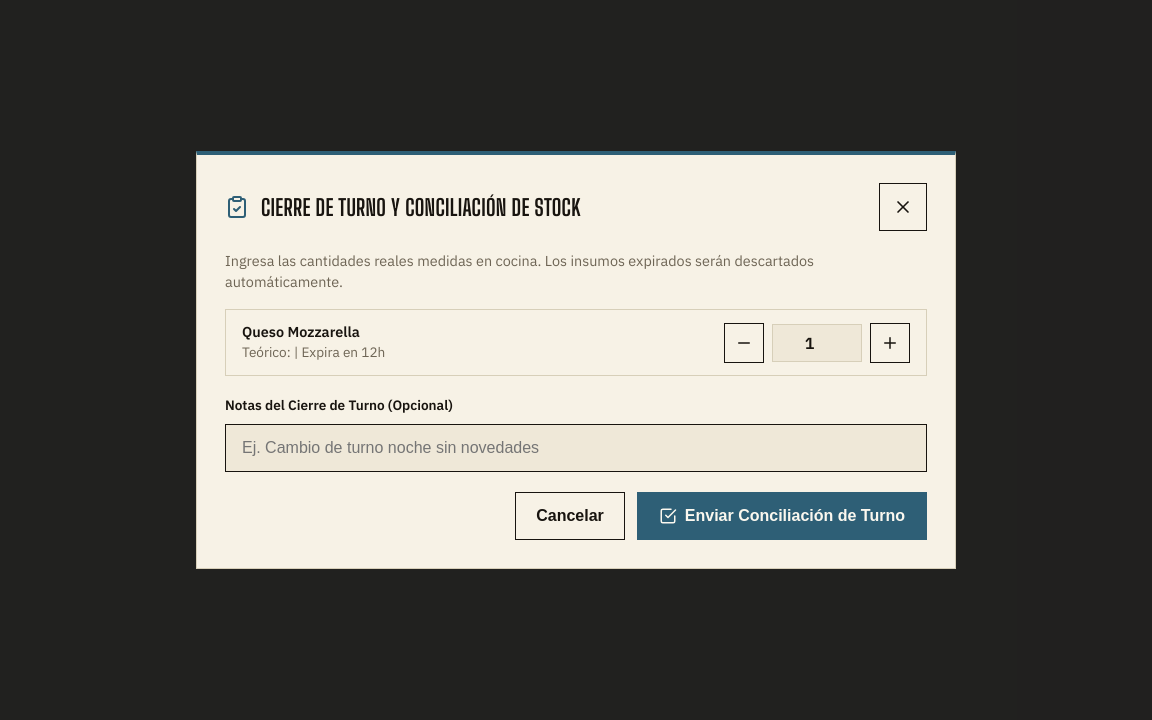
Test: TK-007-D: ShiftReconciliationWizard Component Suite › debe bloquear el envio y mostrar alerta si la varianza supera el 50% hasta marcar el checkbox de autorizacion Y elegir motivo (ADR-004)
Replace the text in the number field showing "1" with "0.3" at x=817, y=342, box x1=772 y1=324 x2=862 y2=362
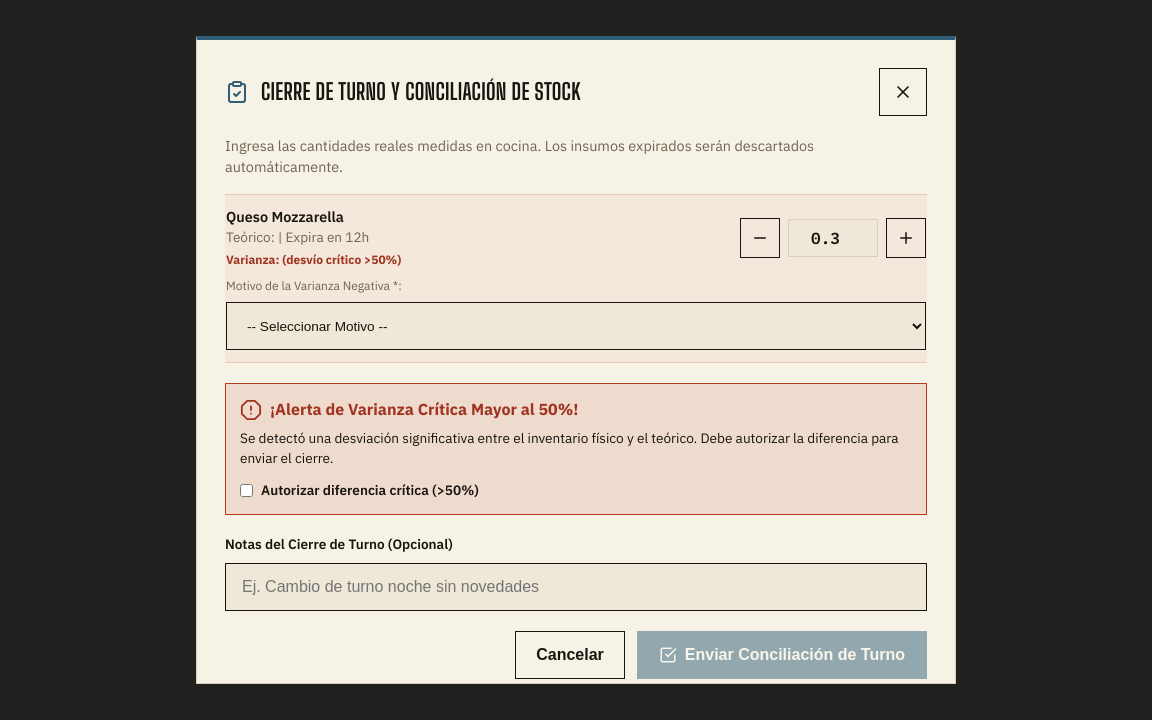
Result: the text "¡Alerta de Varianza Crítica Mayor al 50%!" is shown at x1=240 y1=399 x2=578 y2=421
Result: the button "Enviar Conciliación de Turno" is disabled at x1=637 y1=631 x2=927 y2=679
Click the checkbox labelled "Autorizar diferencia crítica (>50%)".
click(246, 490)  # box x1=240 y1=484 x2=253 y2=497
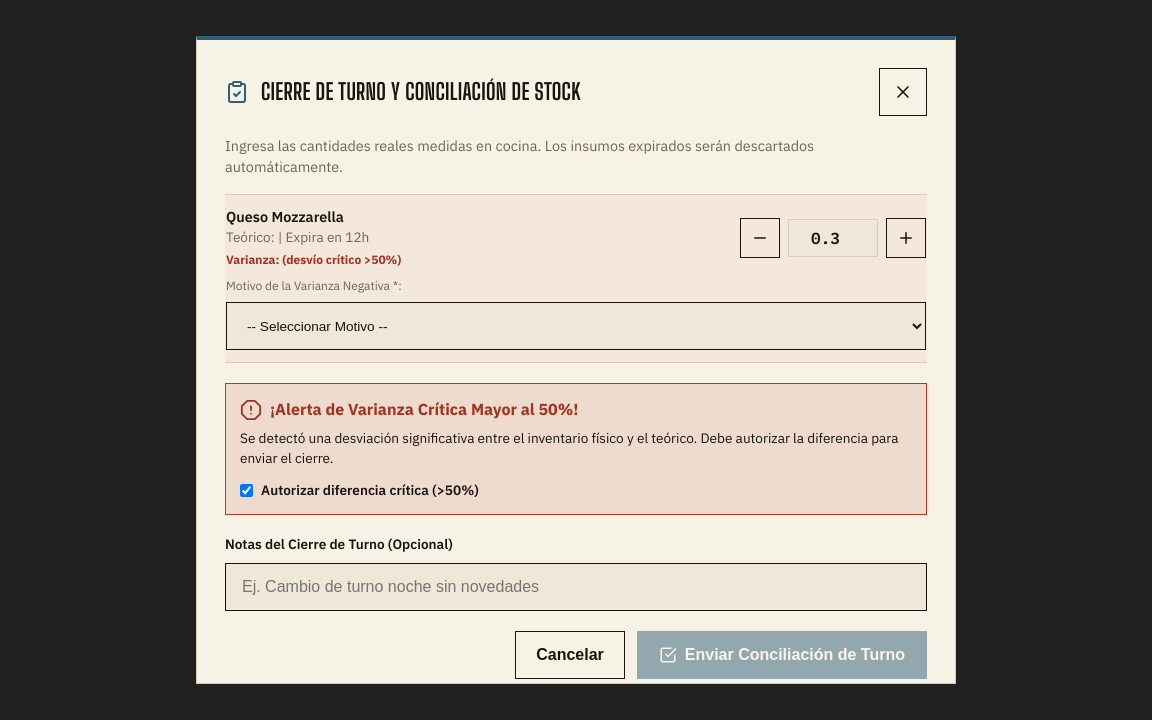
Result: the button "Enviar Conciliación de Turno" is disabled at x1=637 y1=631 x2=927 y2=679
Select "Error de manipulación" in the dropdown labelled "Motivo de la Varianza Negativa *:" at x=576, y=326, box x1=226 y1=302 x2=926 y2=350
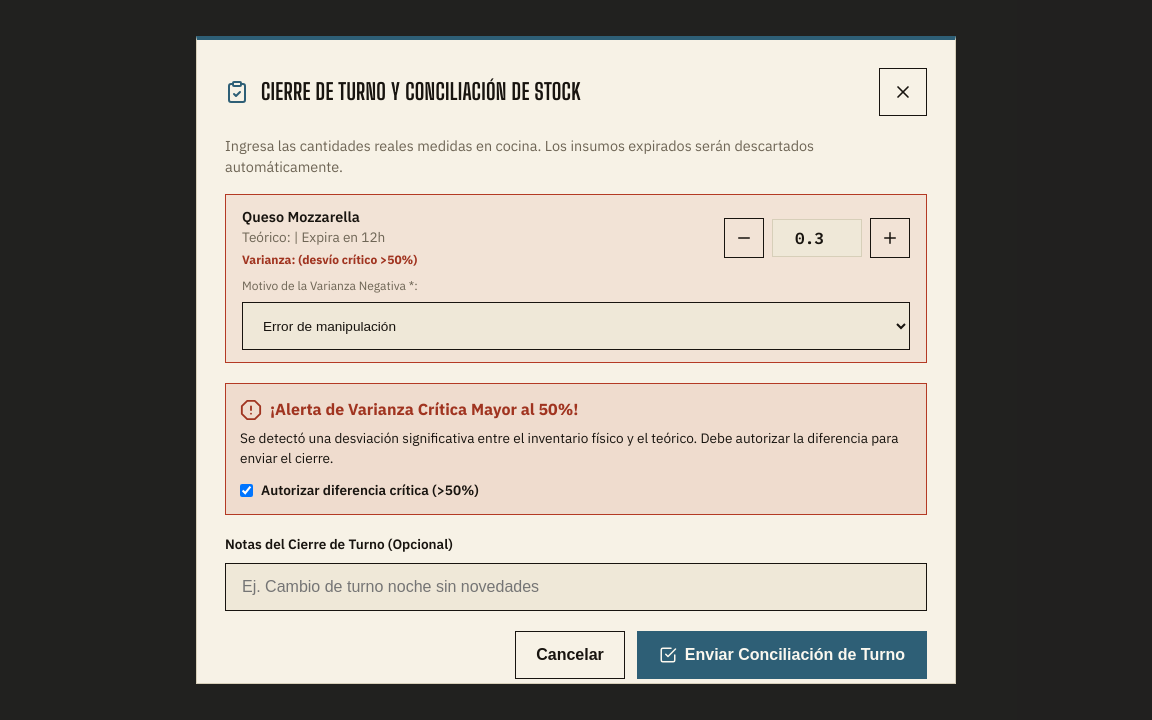
Result: the button "Enviar Conciliación de Turno" is enabled at x1=637 y1=631 x2=927 y2=679
